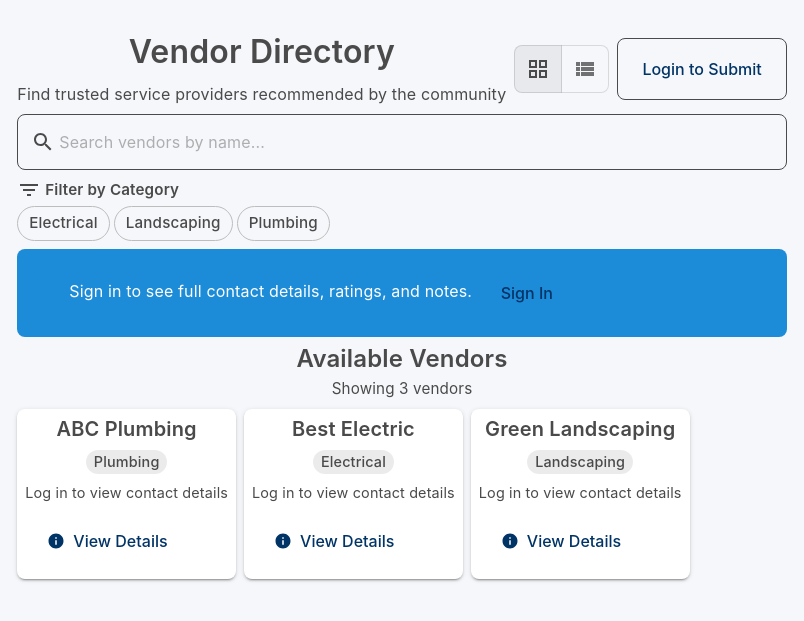
VendorsPage › Filters › shows active filters summary
Click the button with aria-label "filter by plumbing".
click(283, 224)  # box top-left (237, 206), bottom-right (330, 242)
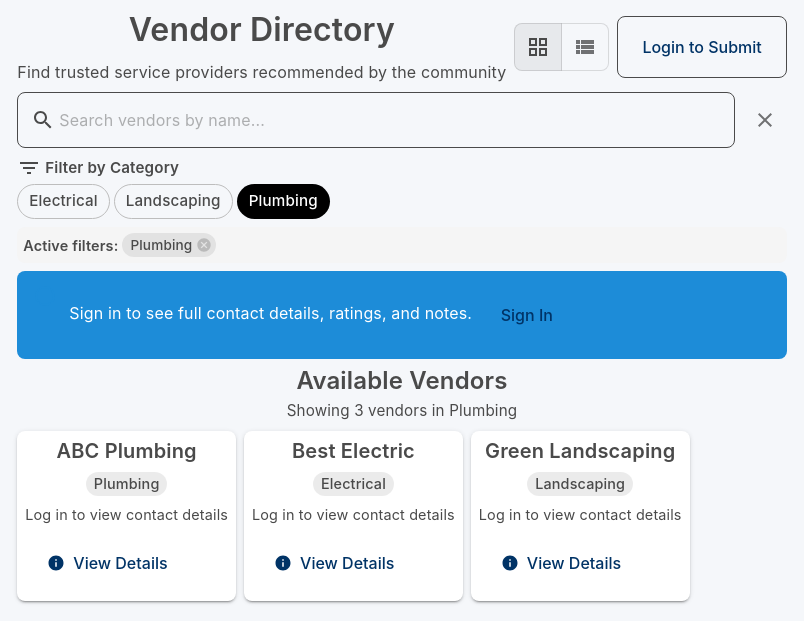
Expected: the text "Active filters:" is shown, top-left (23, 235), bottom-right (118, 256)
